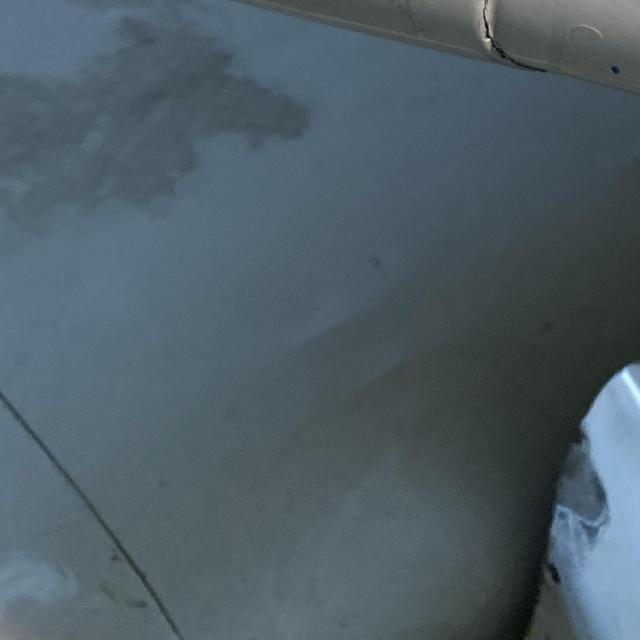Crack: (401, 0, 523, 18)
